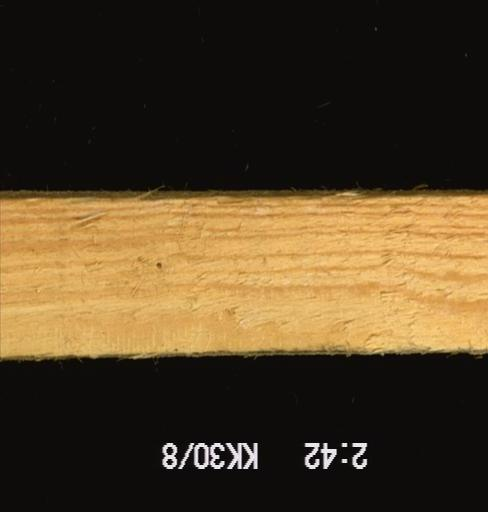small_knot: (149, 257, 168, 275)
